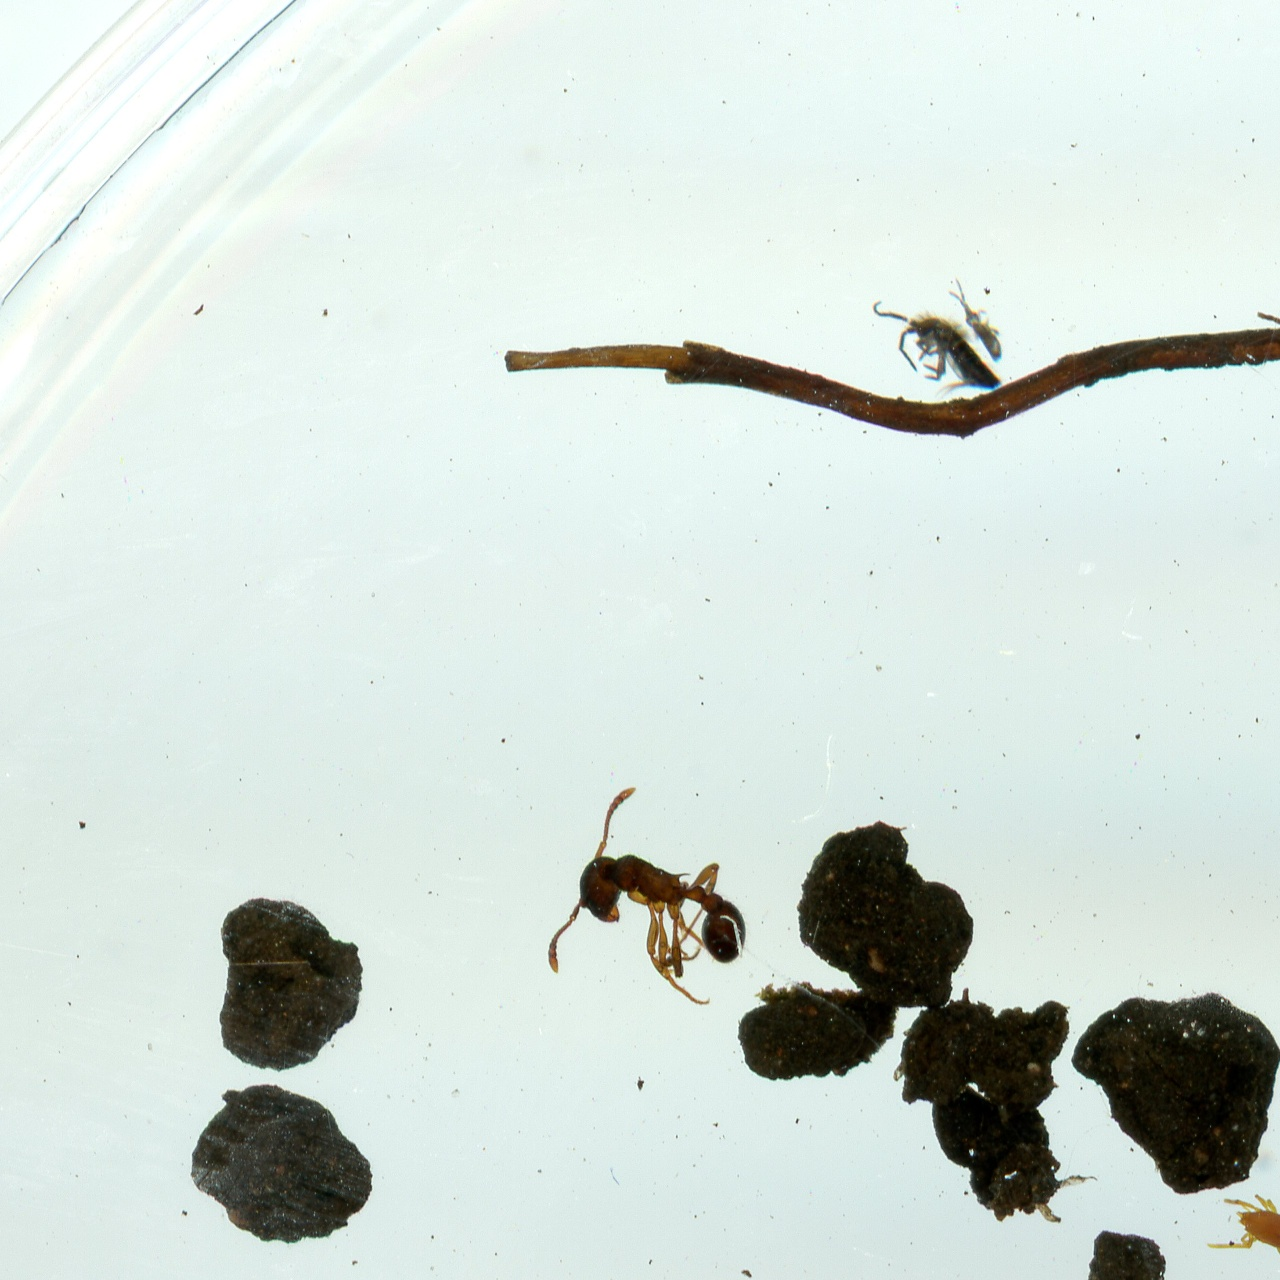arthropod: (498, 769, 797, 1065), (865, 298, 1008, 403), (933, 263, 1023, 382), (1203, 1192, 1280, 1262)
